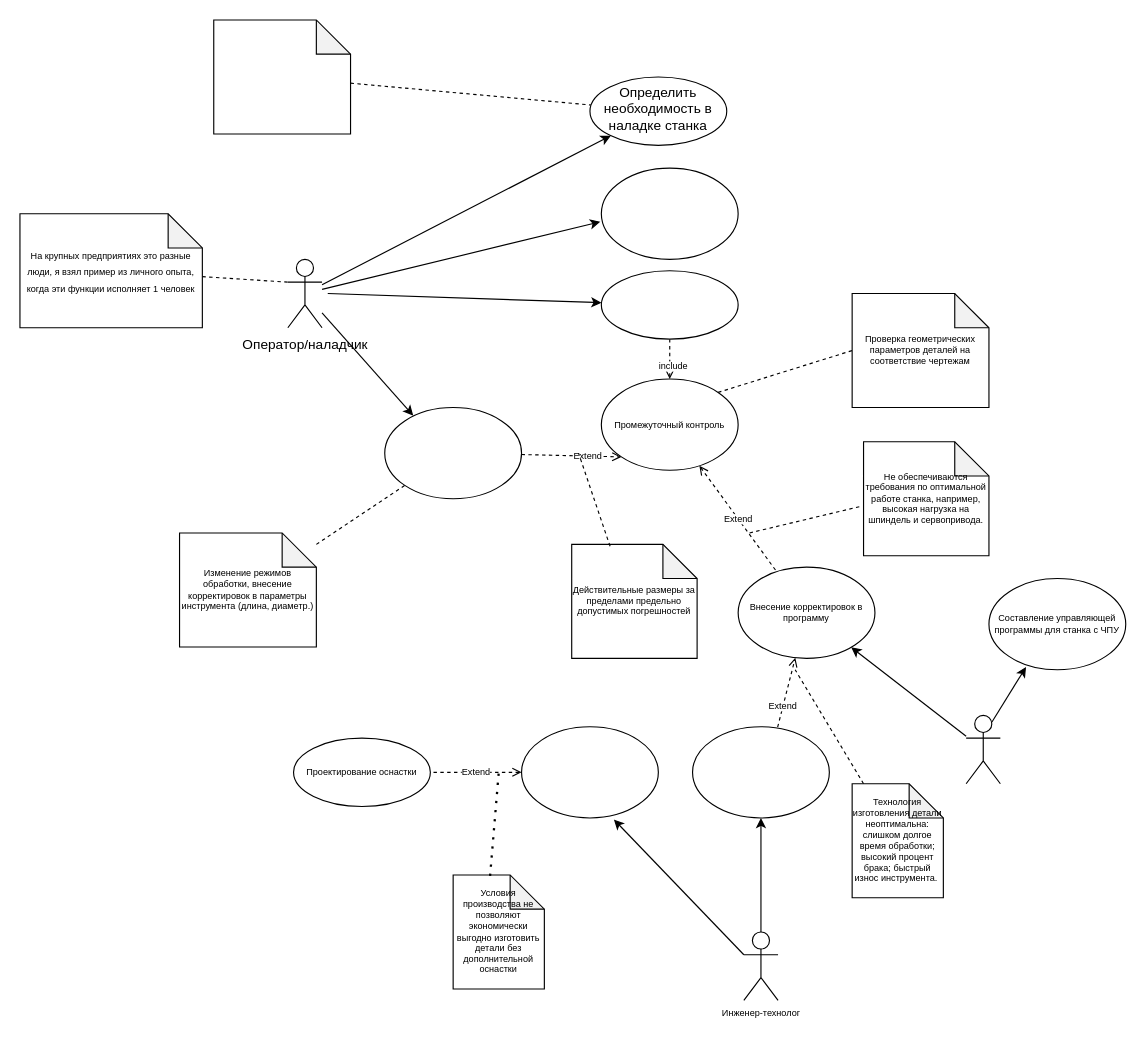
Some shapes in this 1146 by 1050 pixel diagram are drawn without their labels. The shapes that lost their labels are listed below. From the top down, each one's box as (x1, y1, x2, y2) in pixels, then its label:
(213, 19, 351, 134): Проверка инструмента, положения "нуля", контроль оснастки
(600, 167, 738, 259): Сдача Готовых деталей в ОТК
(600, 270, 738, 339): Замена заготовок
(384, 406, 522, 499): Внесение корректировок в работу станка
(965, 714, 1000, 784): Программист
(520, 726, 658, 818): Составление технологии изготовления детали
(691, 726, 829, 818): Корректировка технологии изготовления
